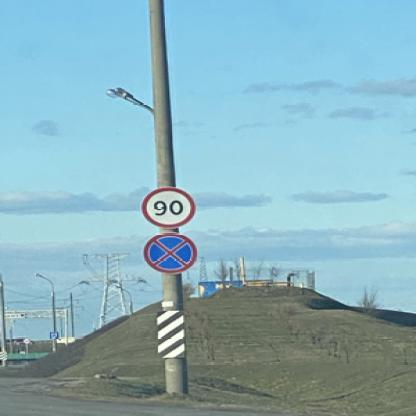speedlimit: (139, 186, 194, 227)
